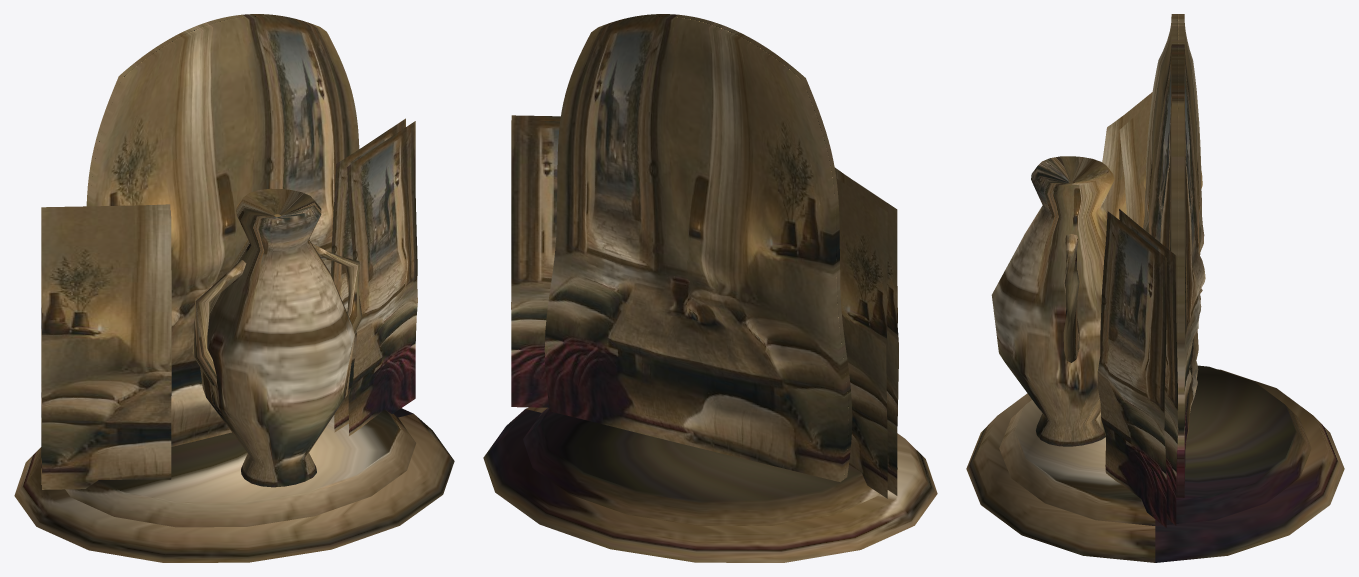
Rendered from treasure-in-clay-jars-15.glb.
3 renders of one model, left to right at view 1: azimuth 30°, elevation 25°; view 2: azimuth 150°, elevation 25°; view 3: azimuth 270°, elevation 25°, orthographic. The views are drawn at different scales.
Visible parts, largest first — view 1: PaintingSculptureMonument; view 2: PaintingSculptureMonument; view 3: PaintingSculptureMonument.
Boxes of the visible parts, x1,y1,x2,y2 form: PaintingSculptureMonument: [14, 14, 454, 562]; PaintingSculptureMonument: [483, 14, 937, 562]; PaintingSculptureMonument: [966, 14, 1344, 562].
Bounding box in the file's own units: 2.76 × 2.99 × 2.35.
1 material, 1 textured.
